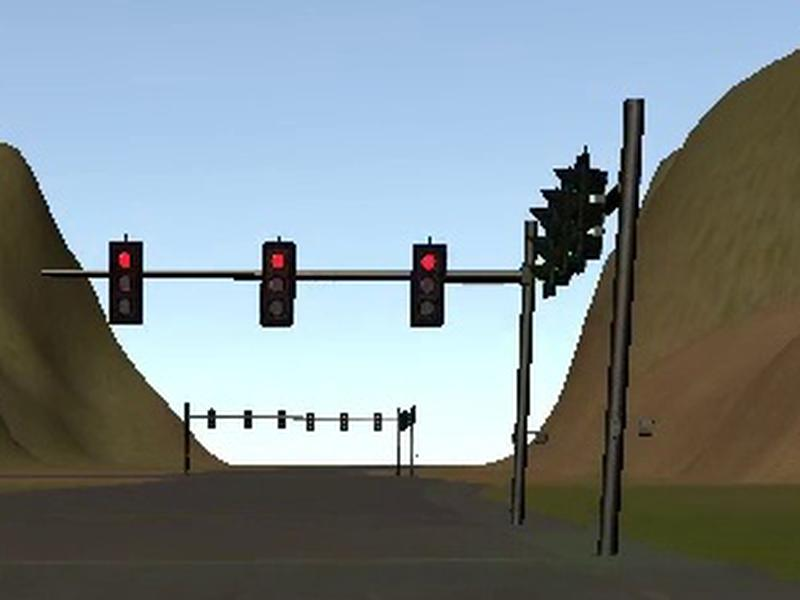Red: (257, 241, 297, 327), (409, 243, 448, 328), (106, 241, 144, 325)
